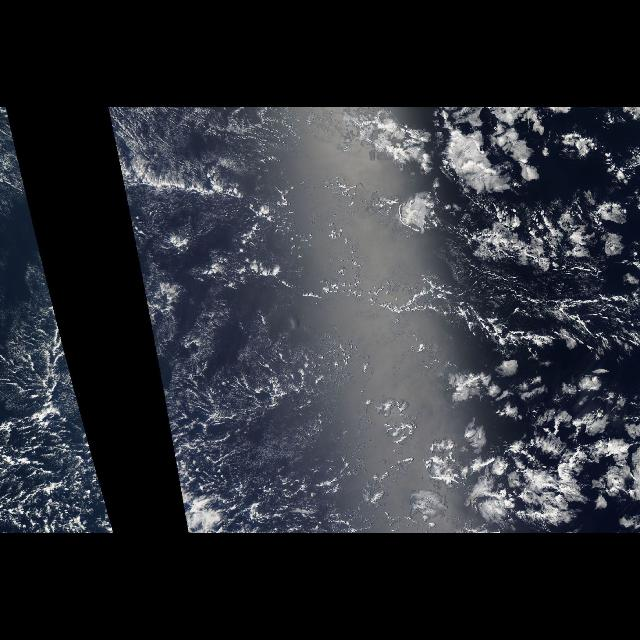Flower: (384, 120, 640, 274), (424, 354, 640, 530)
Gravel: (144, 295, 390, 533), (2, 295, 116, 533)
